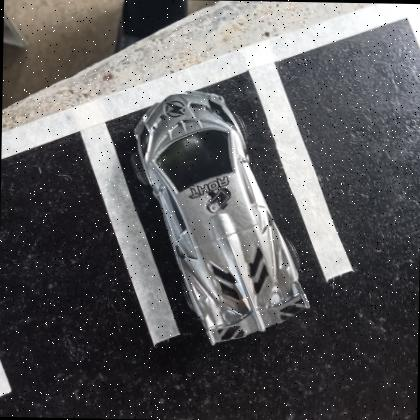Car: (133, 88, 308, 342)
